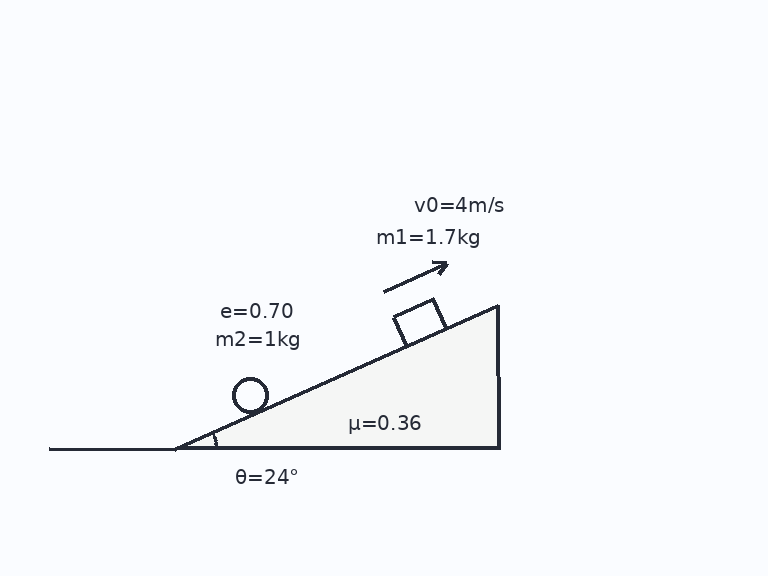ball: (230, 375, 270, 415)
block: (391, 296, 448, 348)
ramp: (174, 303, 500, 450)
